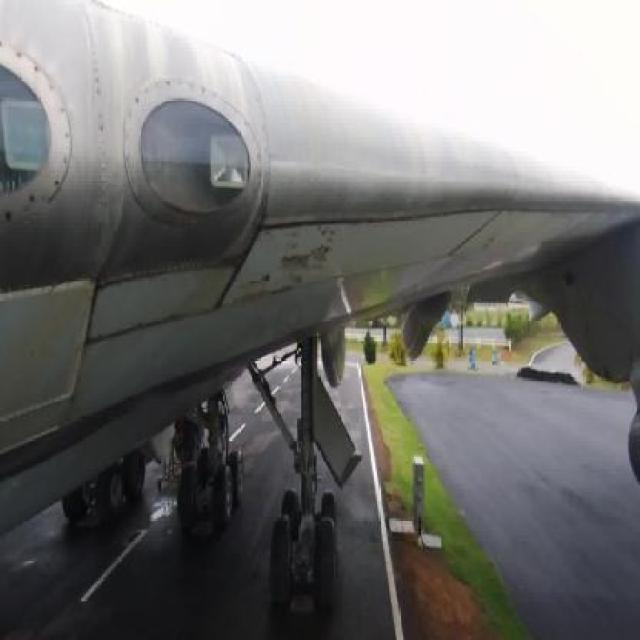Scartch: (222, 210, 364, 318)
